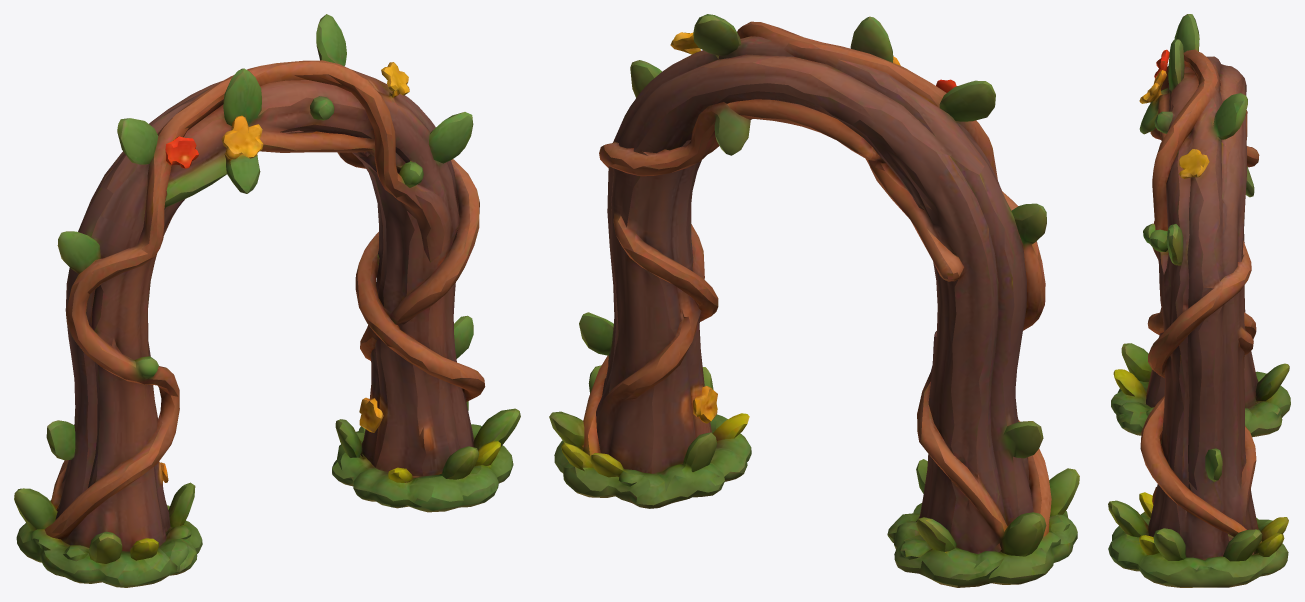
File: x-plant-vine-arch.glb
3 views of the same model, side by side, from view 1: azimuth 30°, elevation 25°; view 2: azimuth 150°, elevation 25°; view 3: azimuth 270°, elevation 25° (orthographic). The views are drawn at different scales.
Visible parts, largest first — view 1: geometry_0; view 2: geometry_0; view 3: geometry_0.
Part boxes in pixels (left/top/right/bottom): geometry_0: left=14, top=14, right=520, bottom=587; geometry_0: left=549, top=14, right=1079, bottom=587; geometry_0: left=1108, top=14, right=1290, bottom=587.
Bounding box in the file's own units: 1 × 0.9576 × 0.3662.
Materials: 1 (1 with a texture image).
